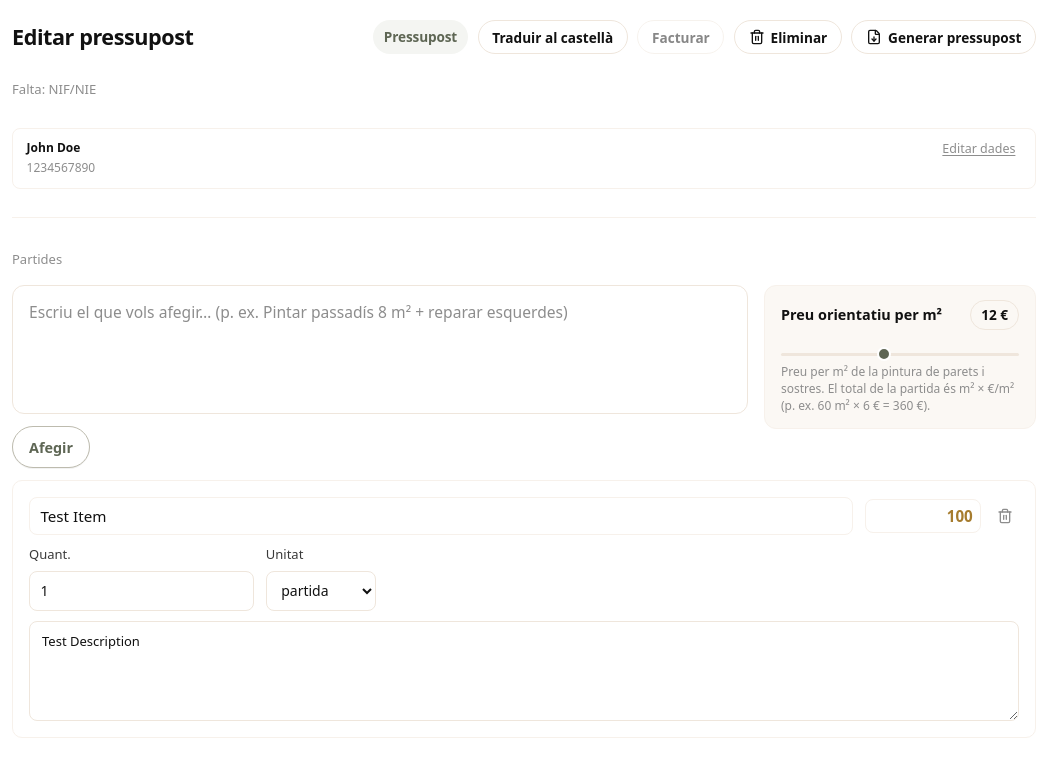
Scenario: Edit budget › loads existing budget data correctly
The image size is (1048, 768).
Expected: the heading "Editar pressupost" is shown, [12, 21, 193, 53]
Click the button "Editar dades". click: click(982, 153)
box: [942, 139, 1021, 167]
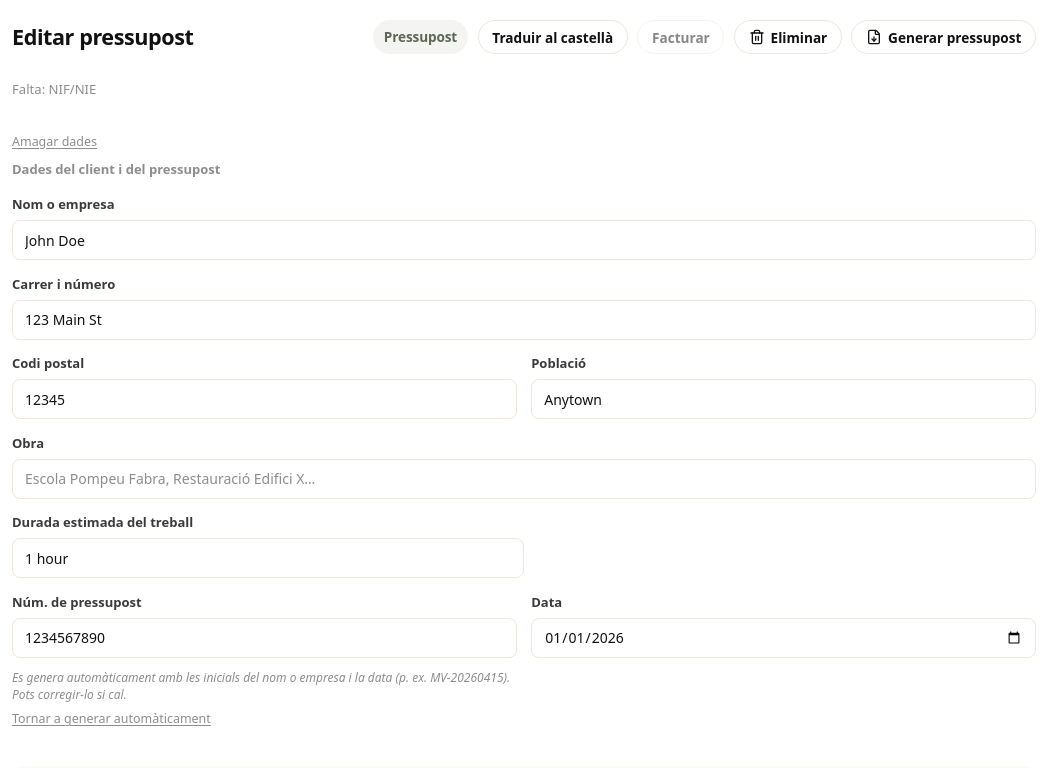
Now the field showing "John Doe" is shown, box [12, 220, 1036, 260]
Now the field showing "123 Main St" is shown, box [12, 300, 1036, 340]
Now the field showing "12345" is shown, box [12, 379, 517, 419]
